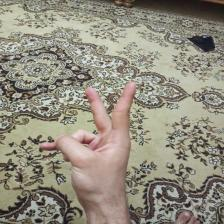two: (54, 85, 146, 216)
